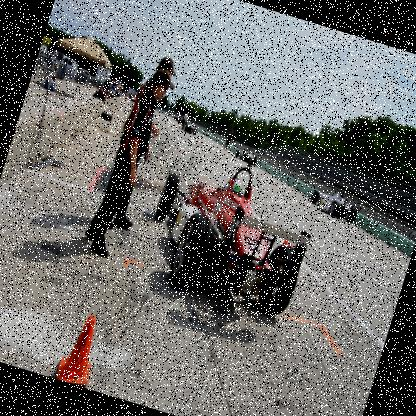Car: (136, 143, 324, 320), (307, 186, 360, 222), (232, 144, 258, 165), (181, 122, 197, 134)
